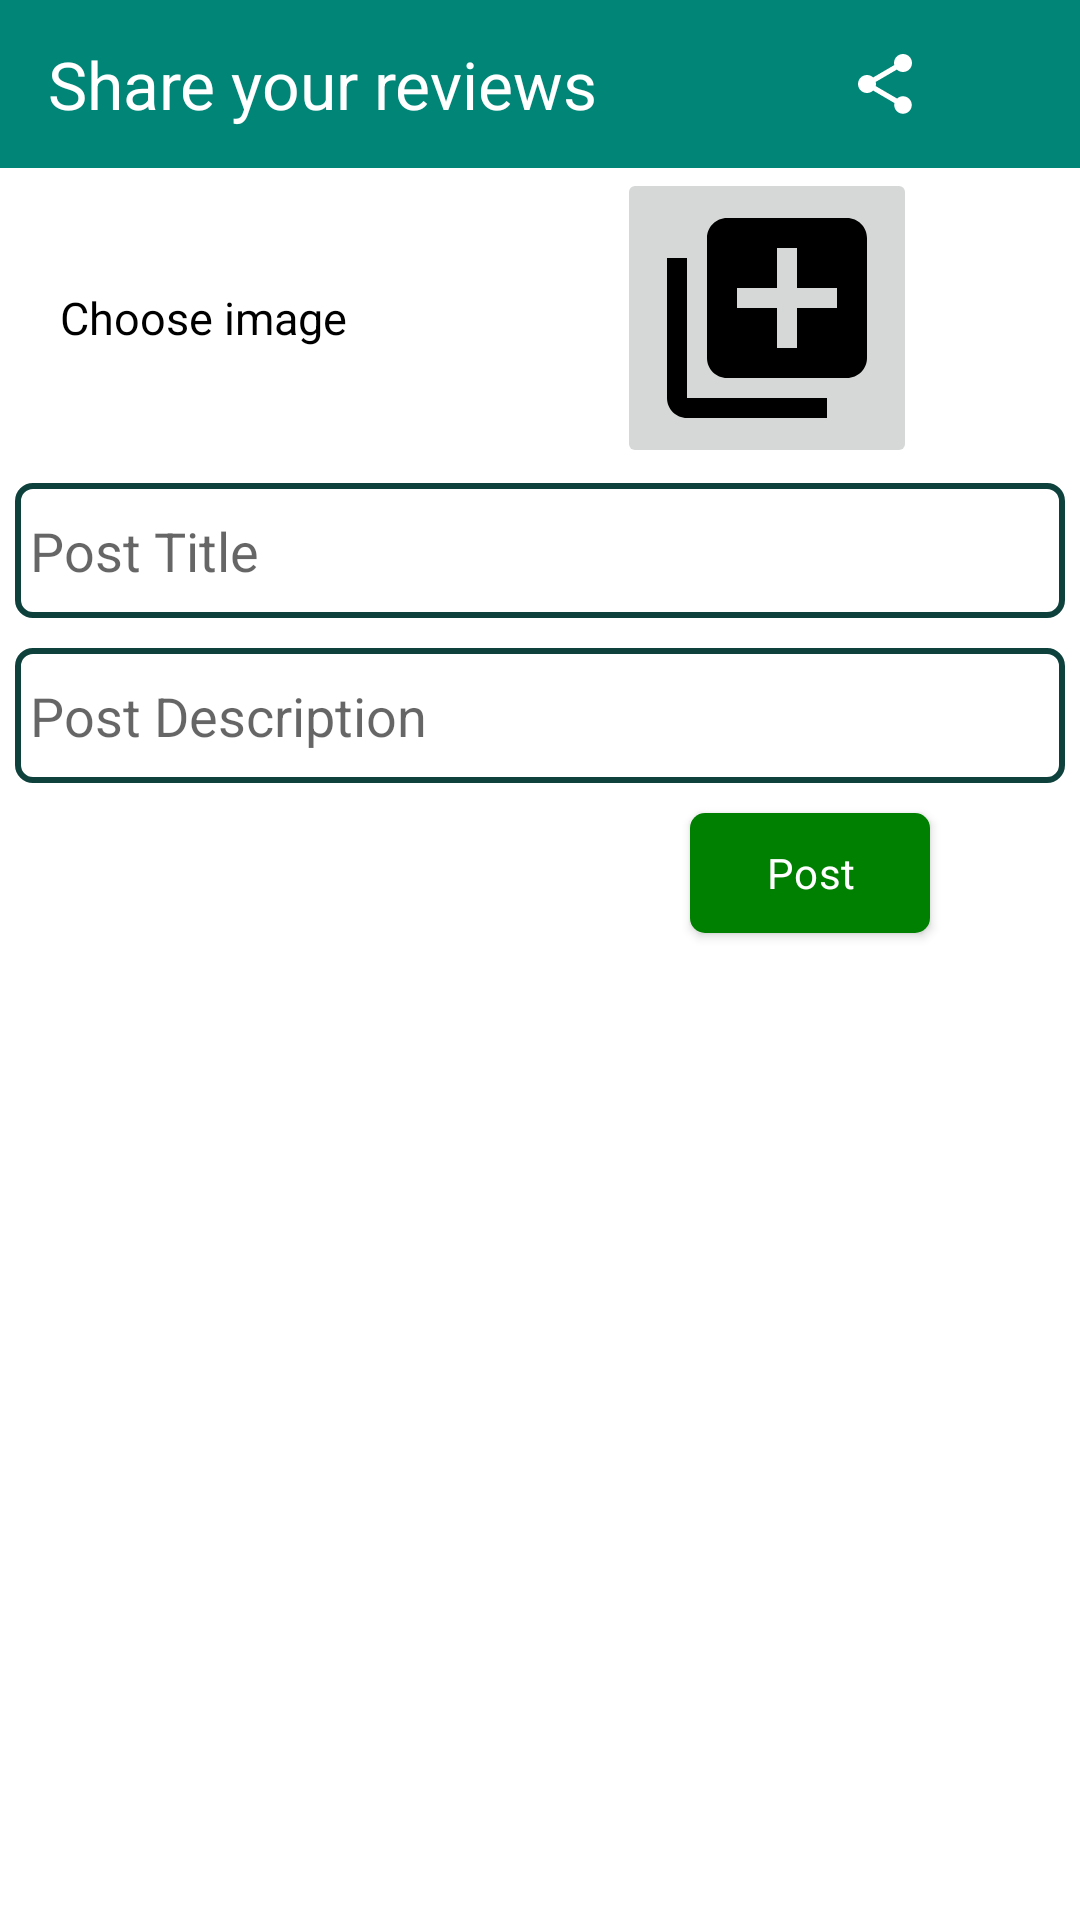

Screen size 1080*1920. Icon name, then its center in pixels as [x,y]:
add: [767,318]
